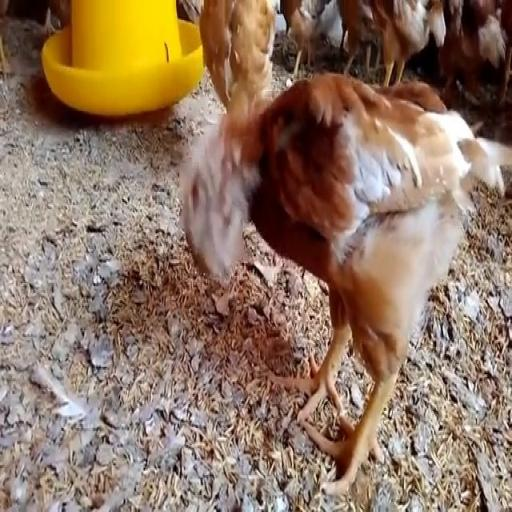disease: (178, 138, 252, 294)
